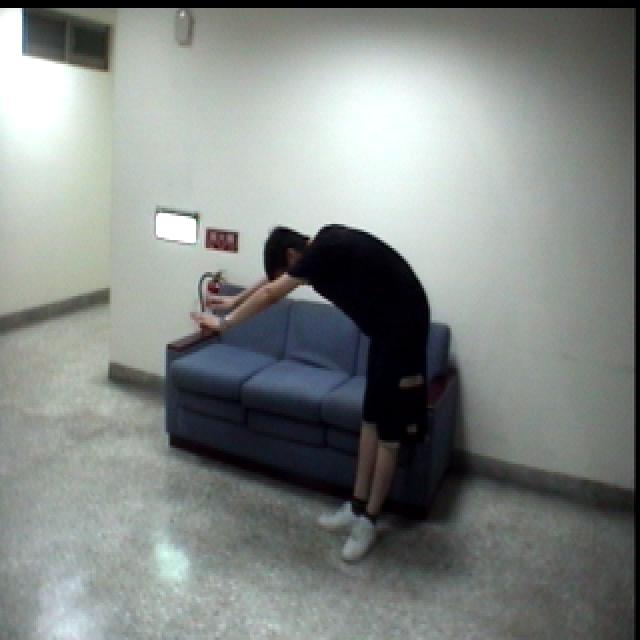bend: (186, 211, 437, 578)
